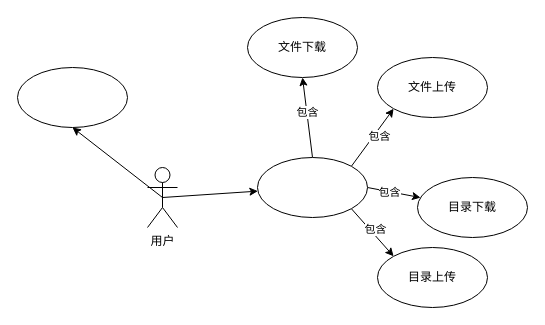
Image size: 545x325. Some labels were removed from this diagram. The shapes that lost their labels are listed below. From the top down, each one's centre as x and y in pixels, then its label:
the point at 72,97: 查询目录
the point at 312,187: 文件传输
